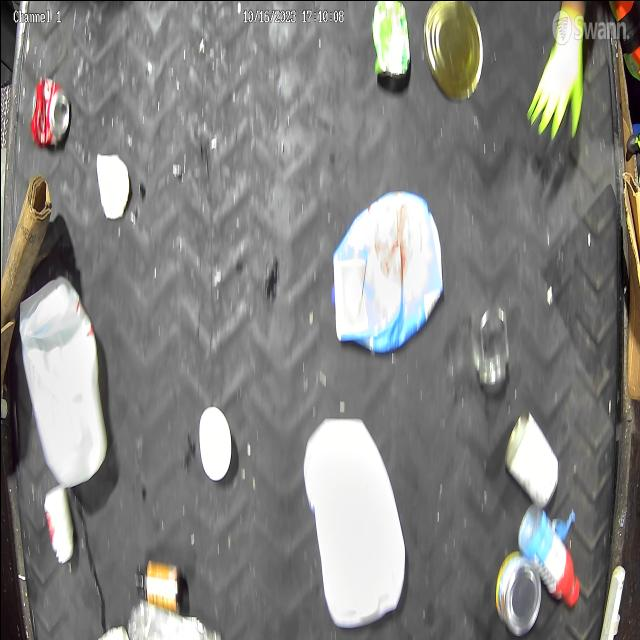can: (426, 0, 480, 98), (502, 412, 558, 506), (496, 550, 538, 630), (30, 74, 64, 138)
milk_jug: (300, 409, 404, 627), (13, 276, 108, 486)
